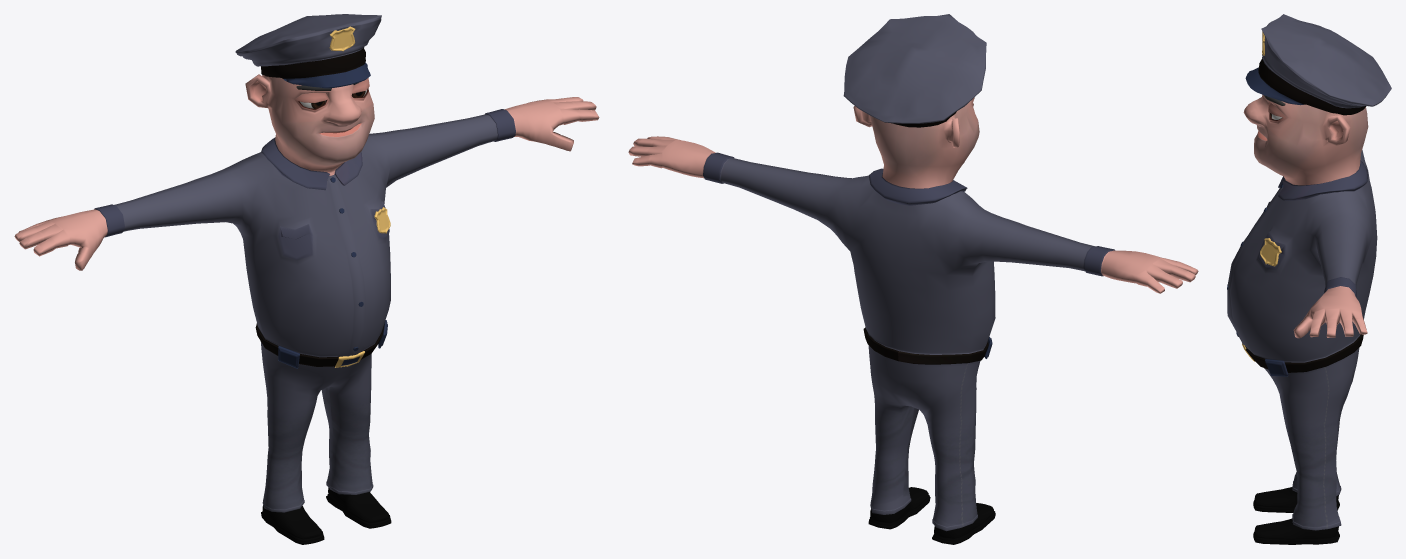
File: Bob_police_m_05.fbx
3 renders of one model, left to right at view 1: azimuth 30°, elevation 25°; view 2: azimuth 150°, elevation 25°; view 3: azimuth 270°, elevation 25°, orthographic. The views are drawn at different scales.
Visible parts, largest first — view 1: cuerpo, hat, zapas; view 2: cuerpo, hat, zapas; view 3: cuerpo, hat, zapas, escudo2.
Boxes of the visible parts, x1,y1,x2,y2 form: cuerpo: (14, 74, 599, 512); hat: (235, 14, 381, 88); zapas: (261, 487, 391, 544); cuerpo: (628, 97, 1198, 531); hat: (843, 14, 986, 127); zapas: (868, 487, 995, 544); cuerpo: (1227, 94, 1377, 530); hat: (1245, 14, 1391, 115); zapas: (1253, 487, 1339, 544); escudo2: (1260, 238, 1281, 266).
Size of the model in its own units: 121 by 102 by 31.04.
Materials: 6 (1 with a texture image).
